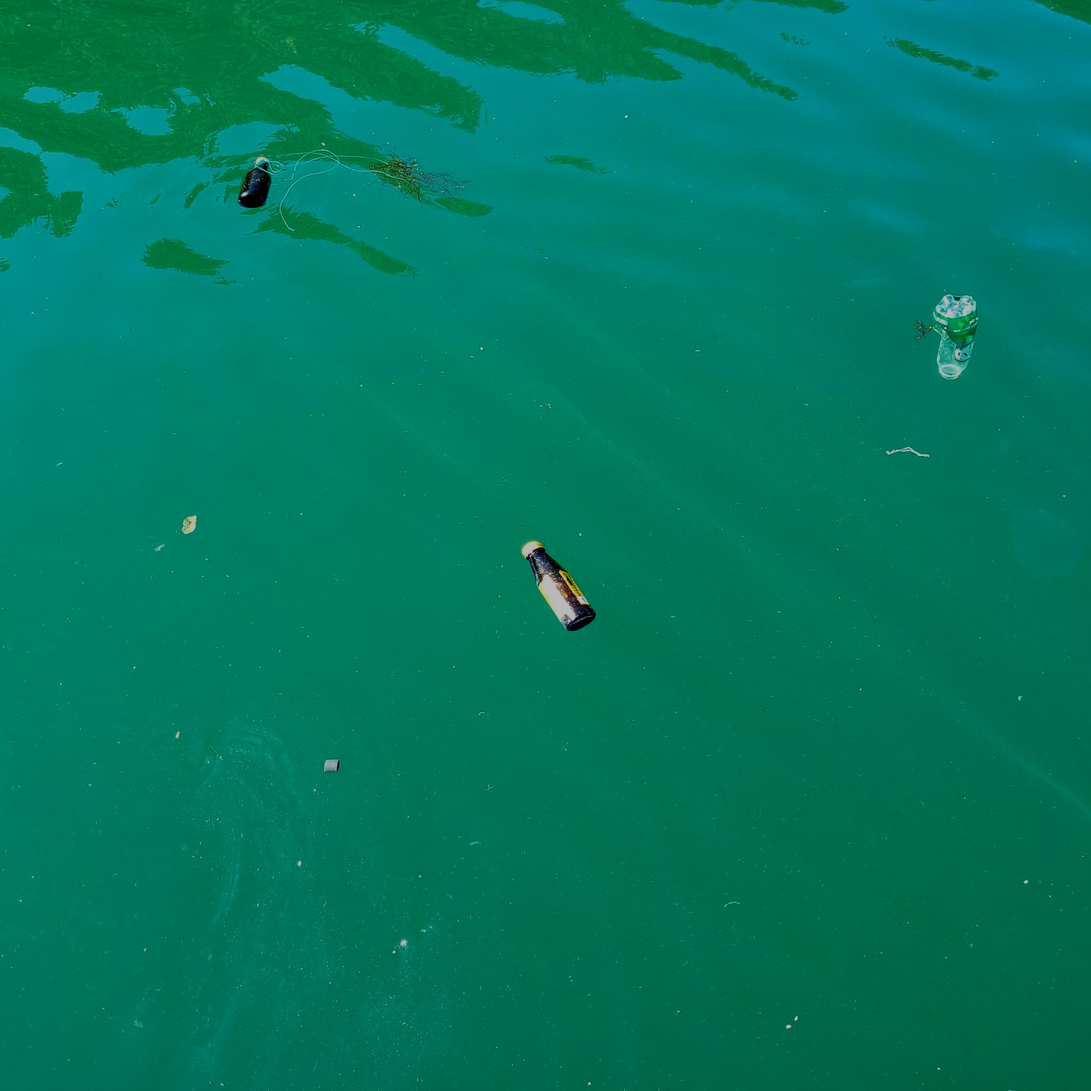sampah_terapung: (522, 541, 596, 632), (933, 295, 978, 381), (238, 157, 273, 209)
